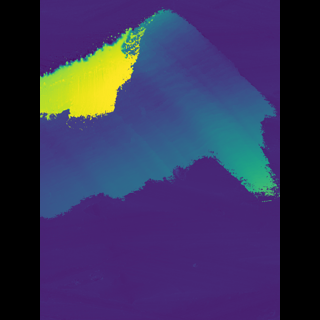Loch: (69, 2, 250, 228)
